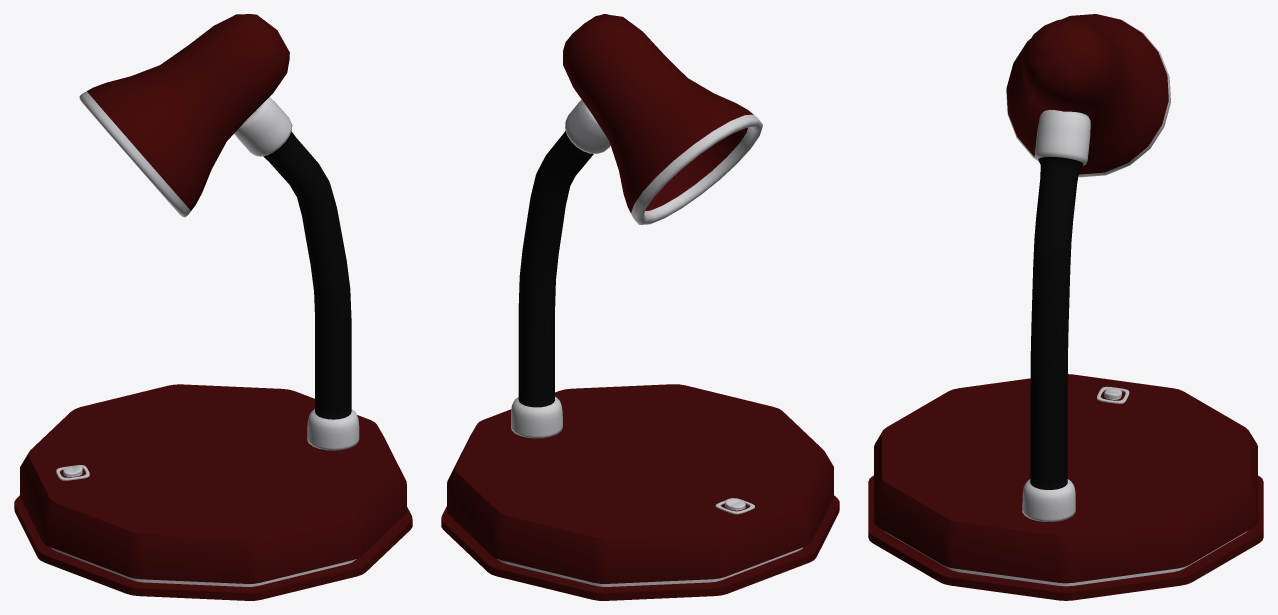
The model's file is New_Lamp.fbx.
3 views of the same model, side by side, from view 1: azimuth 30°, elevation 25°; view 2: azimuth 150°, elevation 25°; view 3: azimuth 270°, elevation 25° (orthographic). The views are drawn at different scales.
Parts seen in each view (by area): view 1: High_Desk Base; view 2: High_Desk Base; view 3: High_Desk Base.
Boxes of the visible parts, <box> form: High_Desk Base: <box>14,14,412,600</box>; High_Desk Base: <box>441,14,839,600</box>; High_Desk Base: <box>868,14,1263,600</box>.
Bounding box in the file's own units: 51.17 × 69.37 × 48.93.
